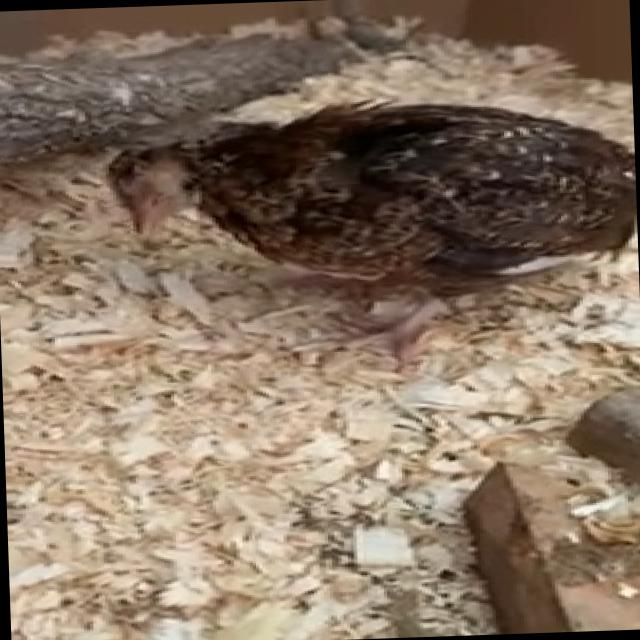newcastle: (90, 84, 640, 338)
